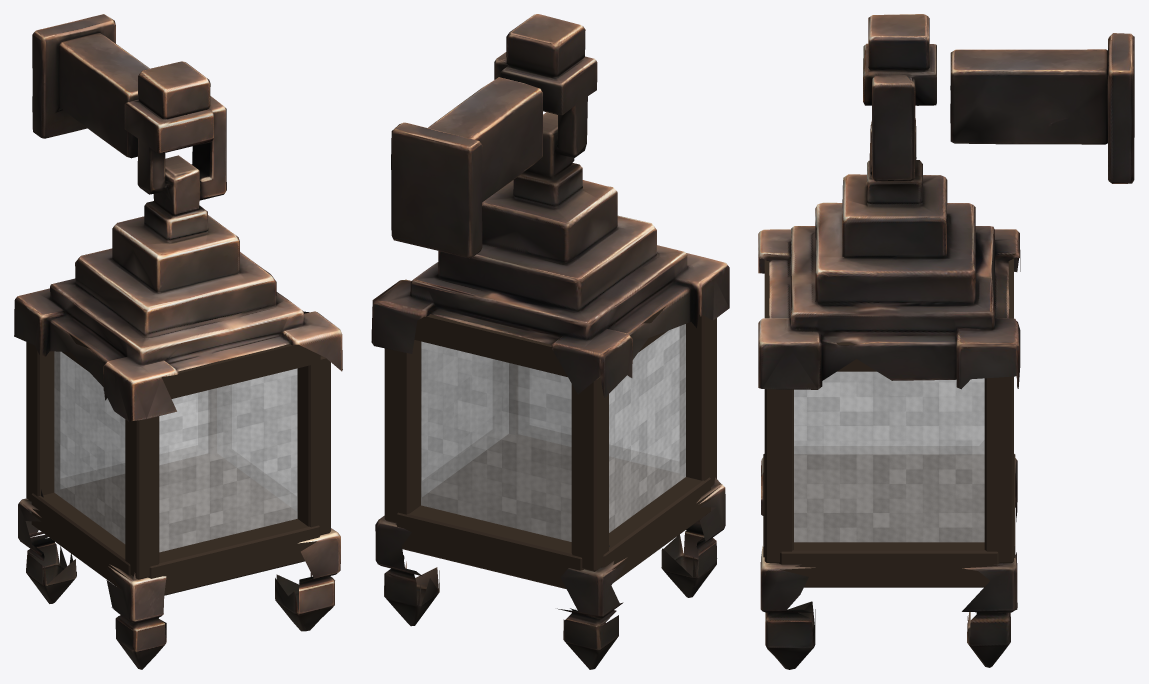
The model's file is entrance-lantern.glb.
The picture shows the model from 3 angles, left to right: view 1: azimuth 30°, elevation 25°; view 2: azimuth 150°, elevation 25°; view 3: azimuth 270°, elevation 25°; orthographic projection. The views are drawn at different scales.
Parts seen in each view (by area): view 1: Tripo bronze entrance lantern, Lantern pane front, Lantern flat interior base, Lantern pane left, Lantern pane back, Lantern pane right, Lantern front bottom rim, Lantern repaired corner rail.002, Lantern repaired corner rail, Lantern repaired corner rail.001, Lantern left bottom rim, Lantern front top rail (+1 smaller); view 2: Tripo bronze entrance lantern, Lantern pane back, Lantern flat interior base, Lantern pane left, Lantern pane front, Lantern pane right, Lantern rear bottom rim, Lantern repaired corner rail.001, Lantern repaired corner rail.003, Lantern repaired corner rail, Lantern left bottom rim, Lantern rear top rail (+2 smaller); view 3: Tripo bronze entrance lantern, Lantern pane right, Lantern flat interior base, Lantern pane left, Lantern right bottom rim, Lantern repaired corner rail.003, Lantern repaired corner rail.002.
Boxes of the visible parts, x1,y1,x2,y2 form: Tripo bronze entrance lantern: (14, 14, 342, 669); Lantern pane front: (159, 368, 297, 552); Lantern flat interior base: (55, 453, 295, 551); Lantern pane left: (54, 351, 125, 543); Lantern pane back: (61, 352, 207, 488); Lantern pane right: (217, 369, 296, 510); Lantern front bottom rim: (148, 518, 320, 595); Lantern repaired corner rail.002: (297, 355, 330, 535); Lantern repaired corner rail: (125, 416, 159, 579); Lantern repaired corner rail.001: (26, 341, 59, 501); Lantern left bottom rim: (31, 492, 131, 589); Lantern front top rail: (162, 344, 320, 398); Tripo bronze entrance lantern: (371, 14, 729, 669); Lantern pane back: (421, 341, 571, 541); Lantern flat interior base: (422, 435, 678, 541); Lantern pane left: (609, 324, 685, 532); Lantern pane front: (519, 327, 678, 472); Lantern pane right: (422, 342, 508, 496); Lantern rear bottom rim: (396, 505, 583, 588); Lantern repaired corner rail.001: (571, 377, 608, 571); Lantern repaired corner rail.003: (384, 340, 421, 523); Lantern repaired corner rail: (680, 314, 716, 486); Lantern left bottom rim: (601, 475, 710, 582); Lantern rear top rail: (414, 314, 567, 376); Tripo bronze entrance lantern: (758, 14, 1134, 669); Lantern pane right: (794, 371, 984, 542); Lantern flat interior base: (794, 454, 984, 541); Lantern pane left: (794, 372, 983, 453); Lantern right bottom rim: (779, 542, 999, 587); Lantern repaired corner rail.003: (984, 376, 1013, 563); Lantern repaired corner rail.002: (764, 389, 793, 562).
Size of the model in its own units: 0.1868 by 0.45 by 0.2566.
Materials: 3 (2 with a texture image).
